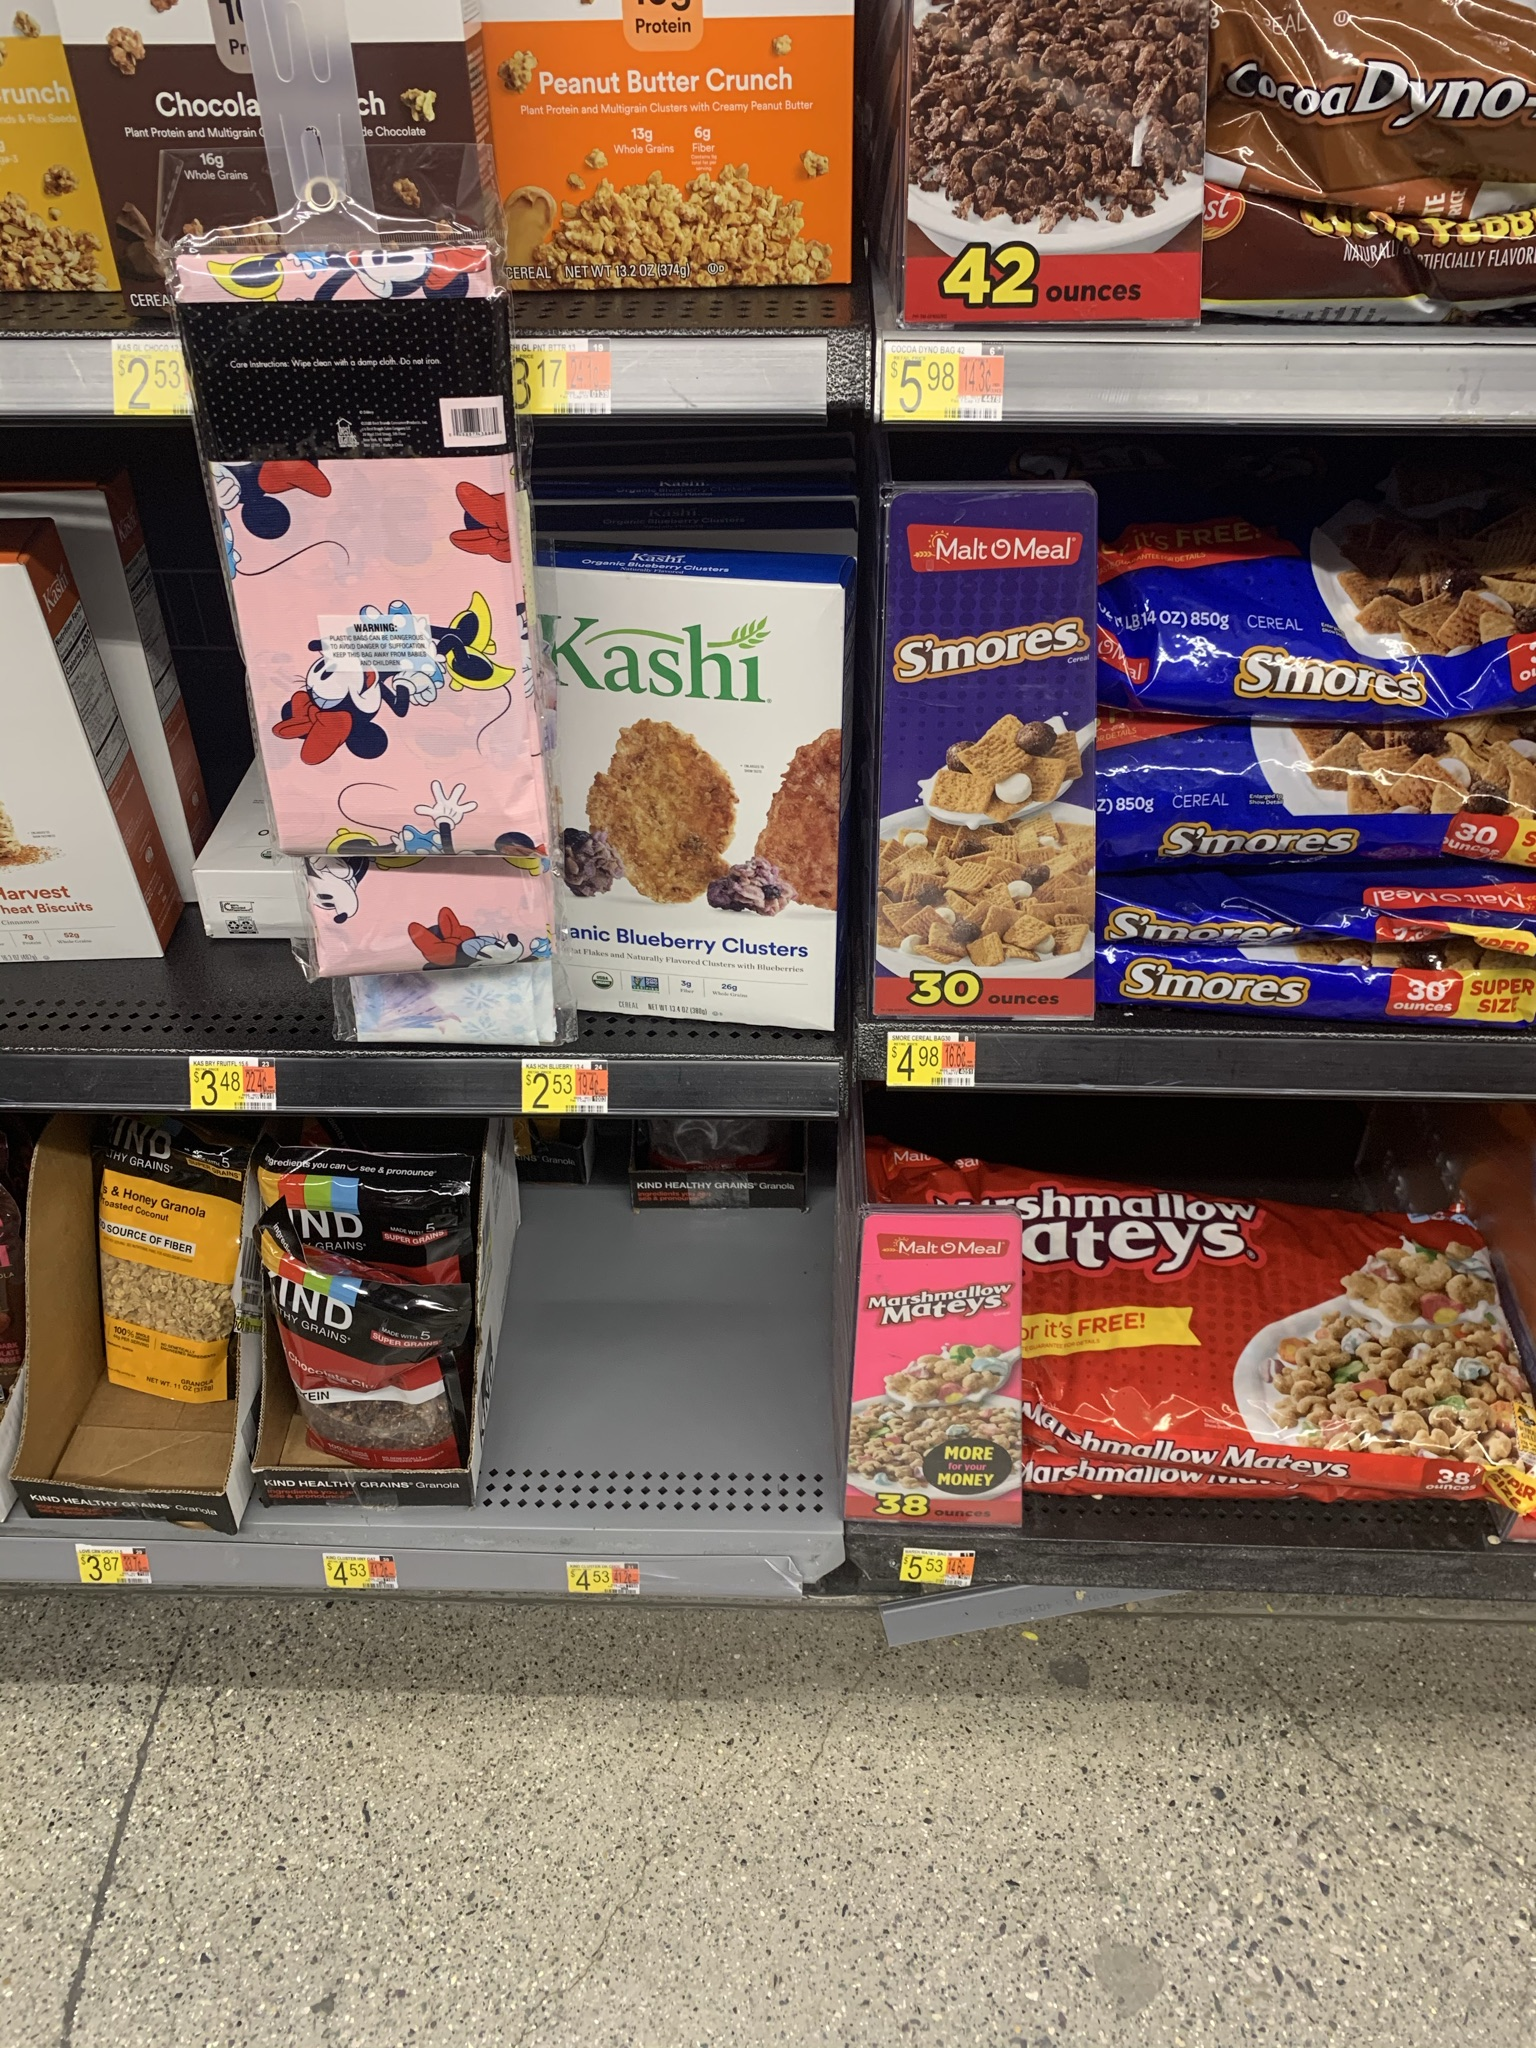Cereal kashi: (552, 548, 854, 1042)
Cereal smores: (899, 506, 1087, 1021), (1108, 729, 1536, 869), (1147, 581, 1509, 724), (1117, 889, 1533, 1011)
